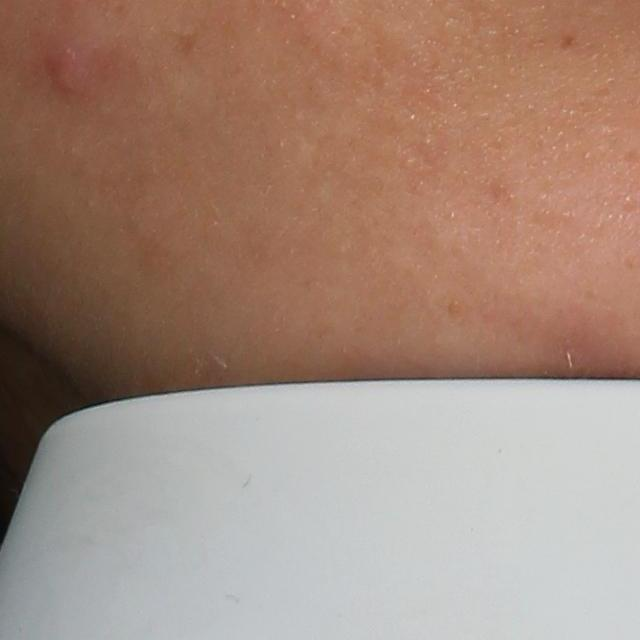papule: (45, 46, 91, 97)
